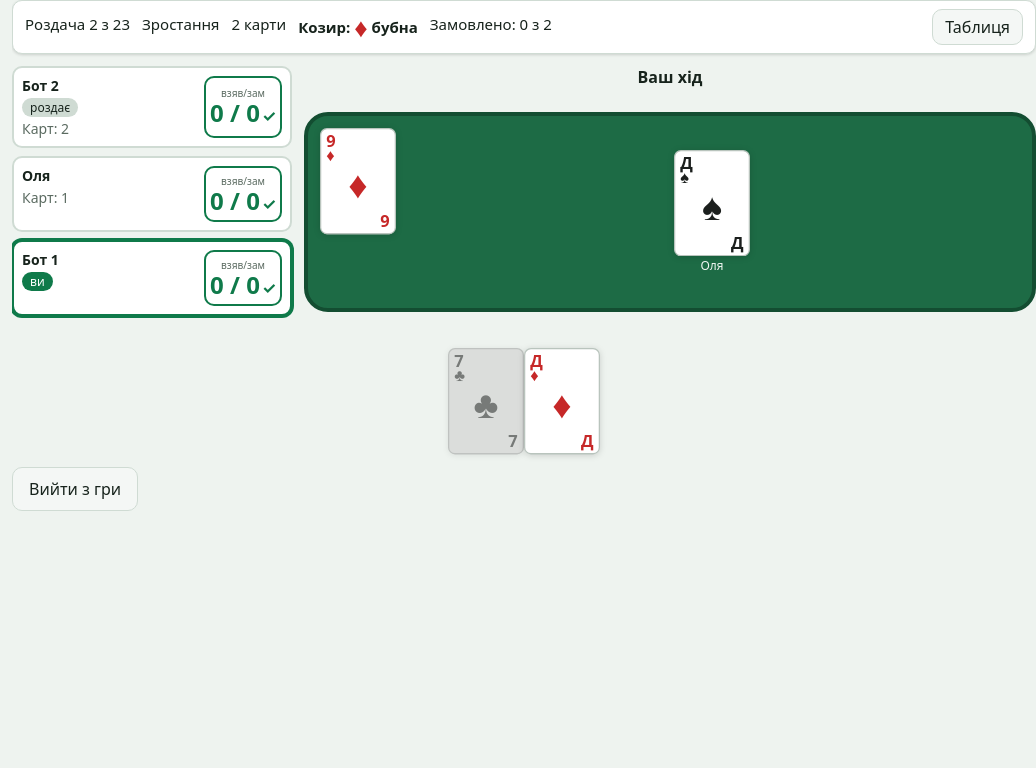
Scenario: ігровий стіл › відмова сервера знову вмикає руку
The image size is (1036, 768).
Click the button "Д ♦︎ ♦︎ Д" at (562, 402), box 524,348 -> 600,455
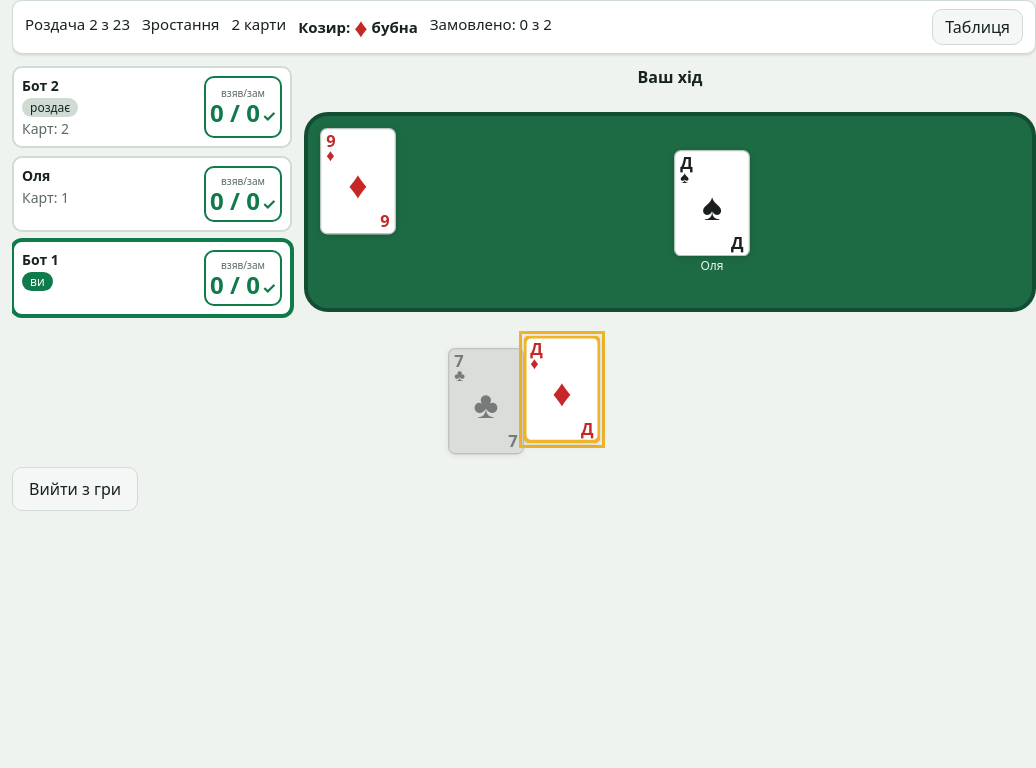
Click the button "Д ♦︎ ♦︎ Д" at (562, 390), box 524,336 -> 600,443
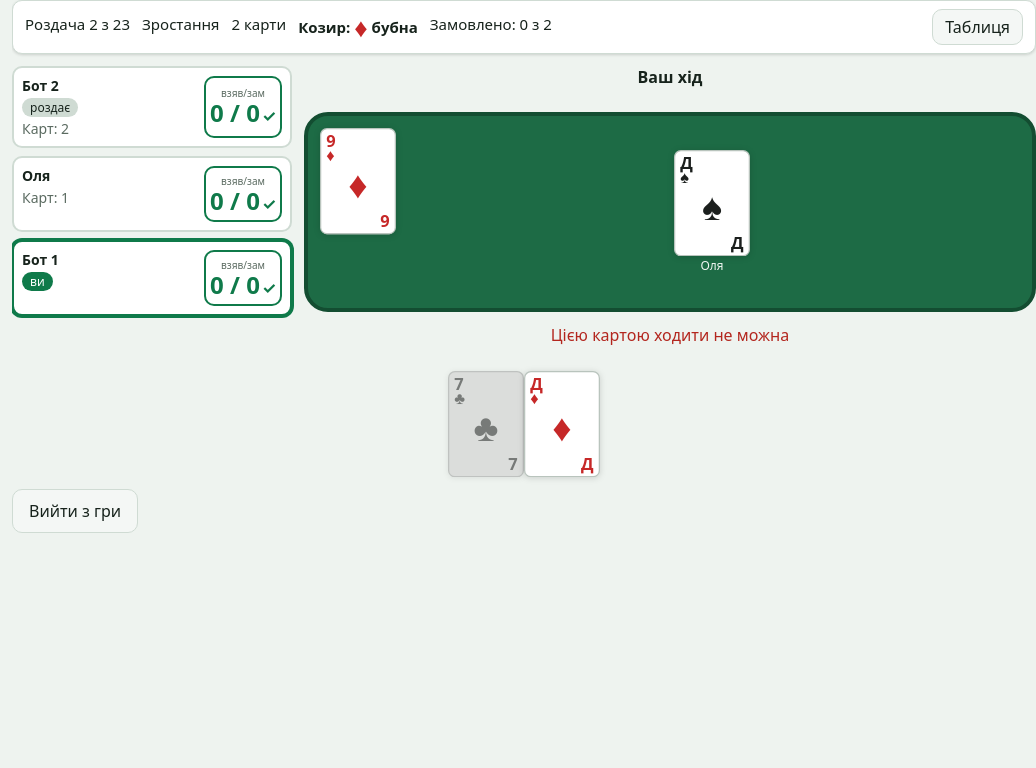
Check: the message "Цією картою ходити не можна" is shown, box 551,324 -> 789,346
